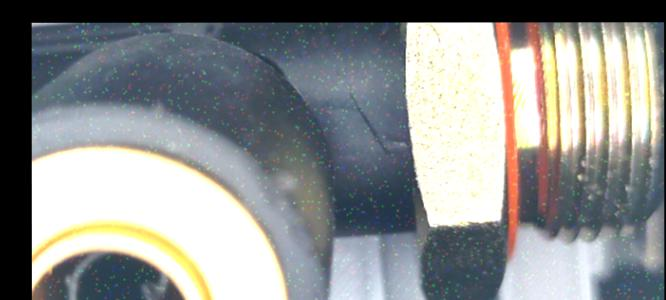bump: (253, 162, 303, 207), (135, 92, 171, 125)
craze: (347, 88, 398, 156)
